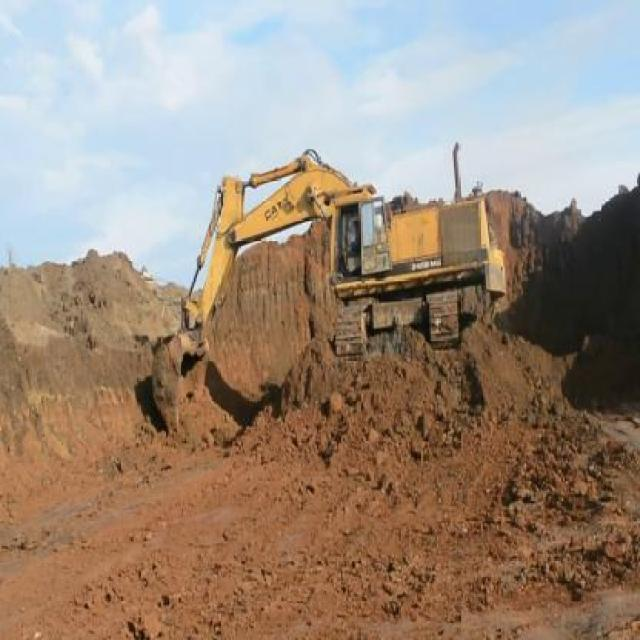excavator: (149, 139, 508, 435)
